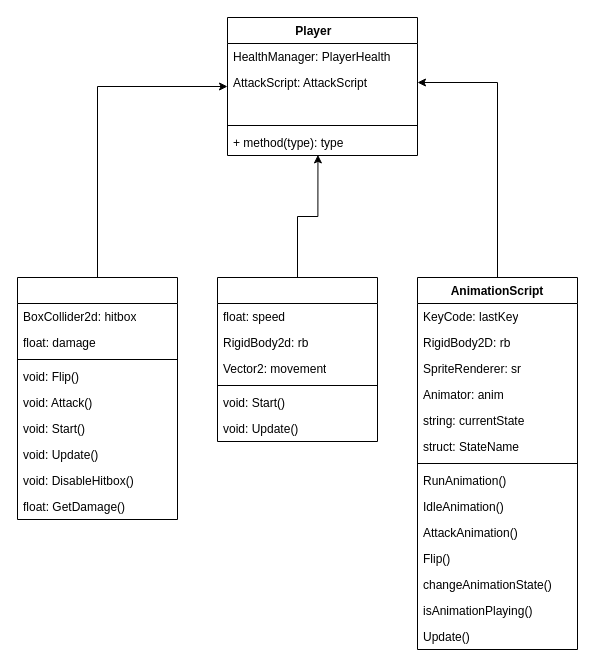
Some shapes in this 595 by 670 pixel diagram are drawn without their labels. The shapes that lost their labels are listed below. From the top down, each one's box as (x1, y1, x2, y2) in pixels, then its label:
(216, 276, 378, 442): MovementScript
(16, 276, 178, 520): AttackScript
